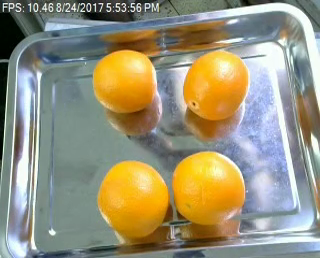Orange: (96, 159, 169, 236), (172, 150, 246, 224), (182, 49, 249, 120), (91, 48, 156, 113)
